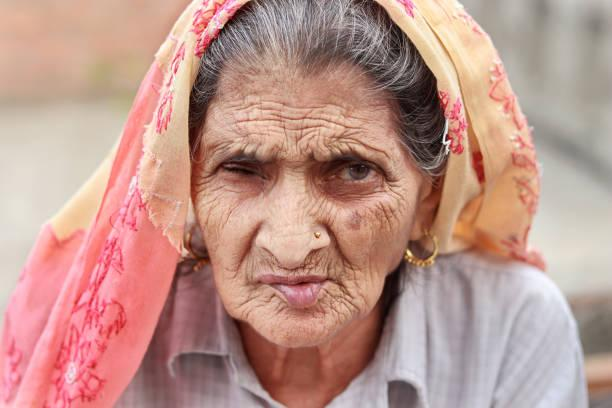Dry-Skin: (326, 189, 420, 303), (228, 69, 368, 144)
